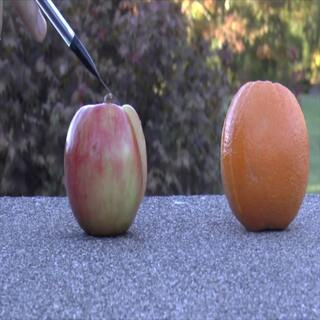apple: (60, 99, 147, 234)
orange: (213, 76, 315, 234)
